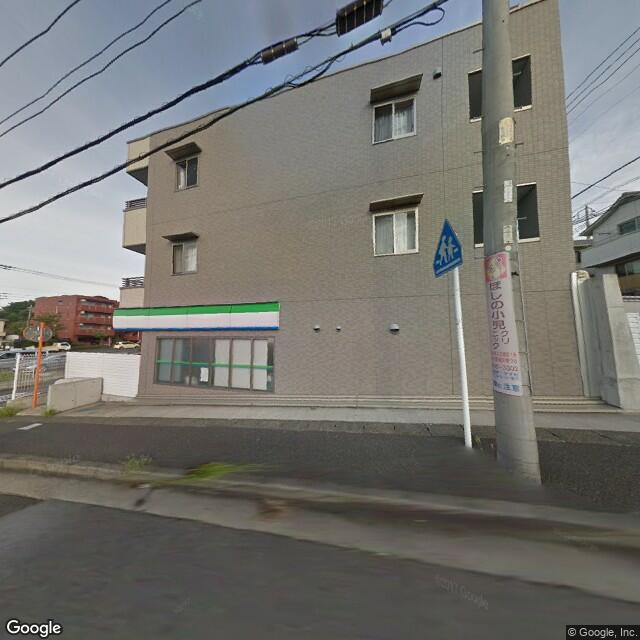family_mart: (109, 301, 282, 333)
